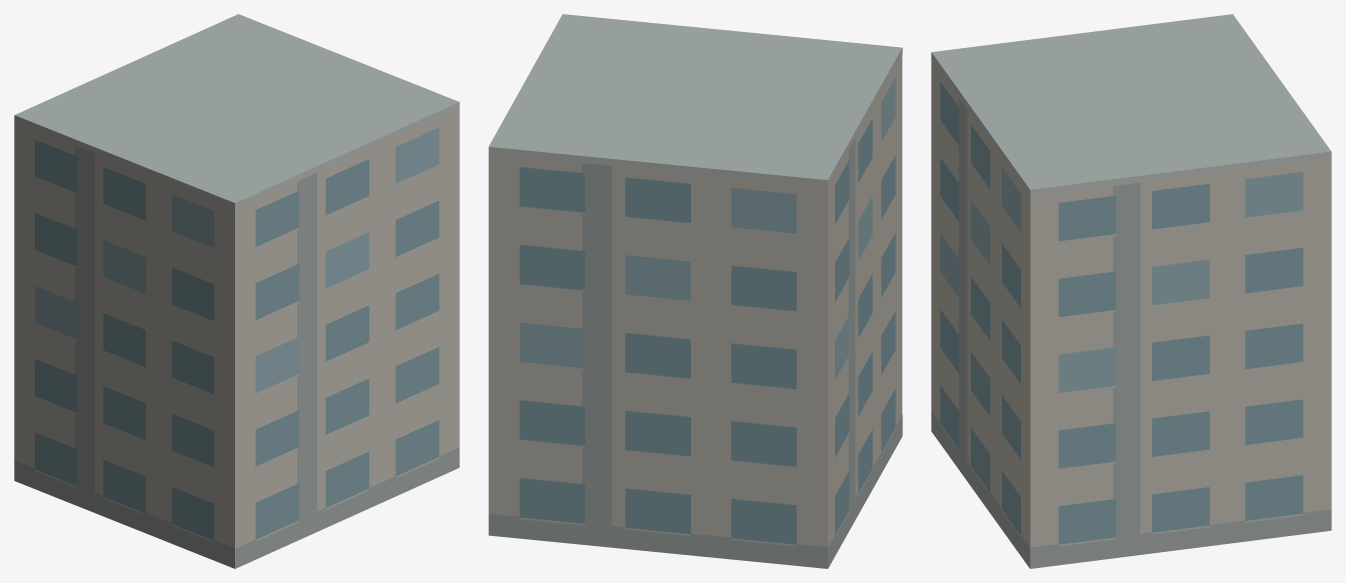
Rendered from survey-upis-32941646.glb.
3 renders of one model, left to right at view 1: azimuth 30°, elevation 25°; view 2: azimuth 150°, elevation 25°; view 3: azimuth 270°, elevation 25°, orthographic. The views are drawn at different scales.
Parts seen in each view (by area): view 1: survey-upis-32941646.tmp; view 2: survey-upis-32941646.tmp; view 3: survey-upis-32941646.tmp.
Part boxes in pixels (x1,y1,x2,y2): survey-upis-32941646.tmp: [14, 14, 459, 568]; survey-upis-32941646.tmp: [488, 14, 902, 568]; survey-upis-32941646.tmp: [931, 14, 1331, 568].
Bounding box in the file's own units: 13.33 × 13.4 × 12.82.
